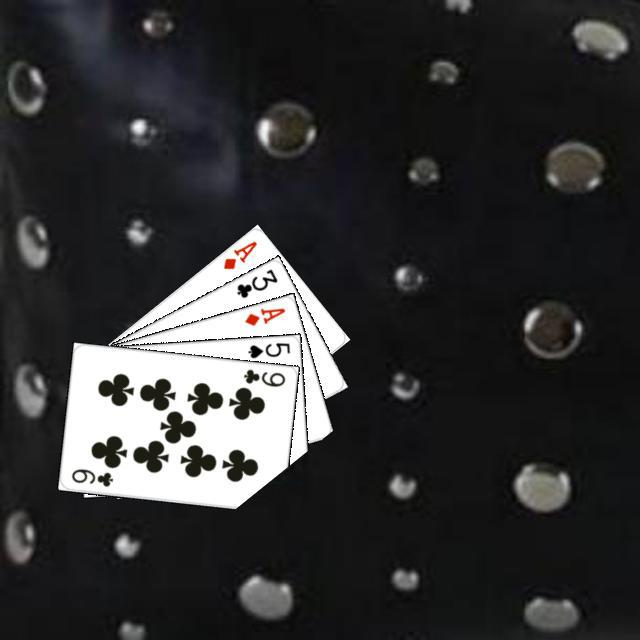3c: (231, 264, 279, 300)
5s: (243, 338, 291, 359)
9c: (239, 364, 287, 388), (66, 464, 114, 488)
Ad: (218, 236, 259, 271), (240, 303, 287, 327)
